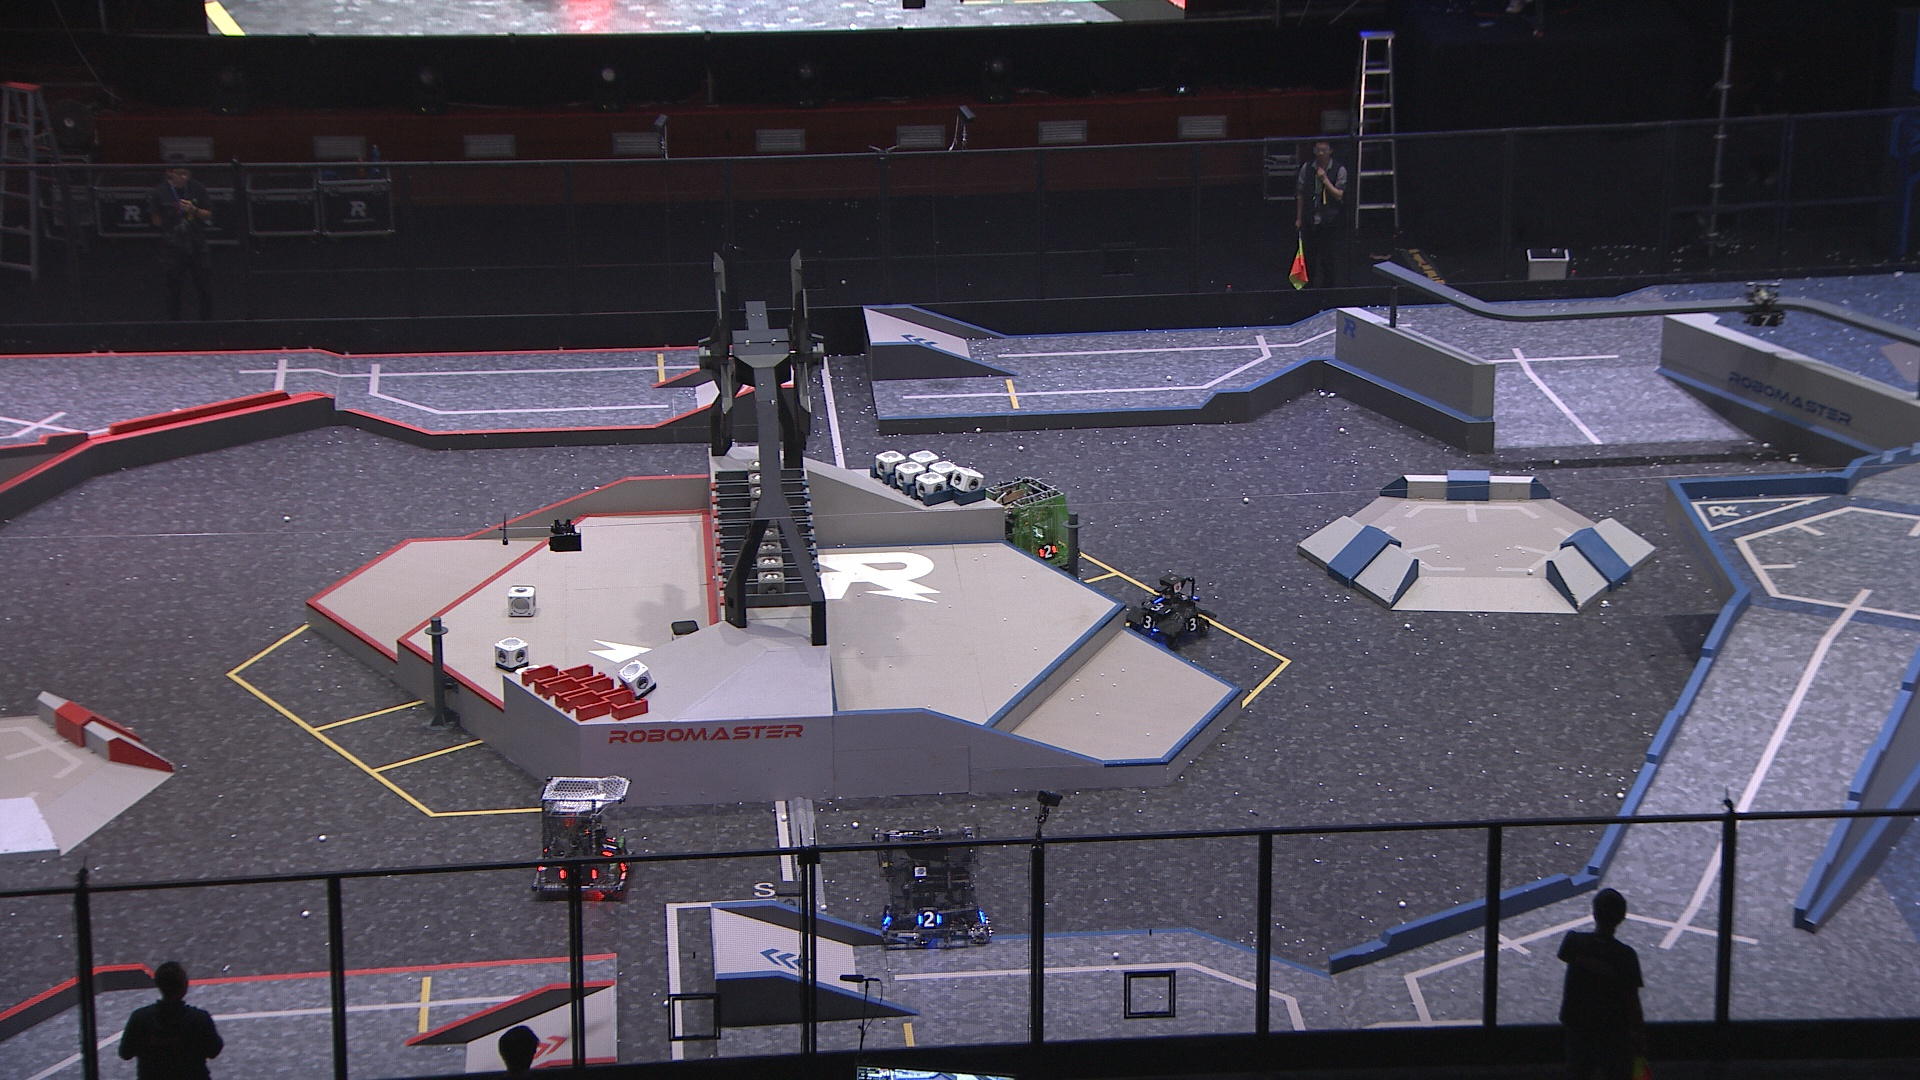armor: (916, 913, 945, 931), (1143, 599, 1174, 615), (1750, 311, 1778, 328), (1035, 542, 1059, 560), (599, 835, 618, 856), (1182, 617, 1204, 632), (1139, 613, 1156, 628)
car: (870, 822, 992, 949), (531, 773, 632, 899), (975, 473, 1079, 576), (1124, 574, 1211, 655)
watcher: (1741, 277, 1789, 332)
